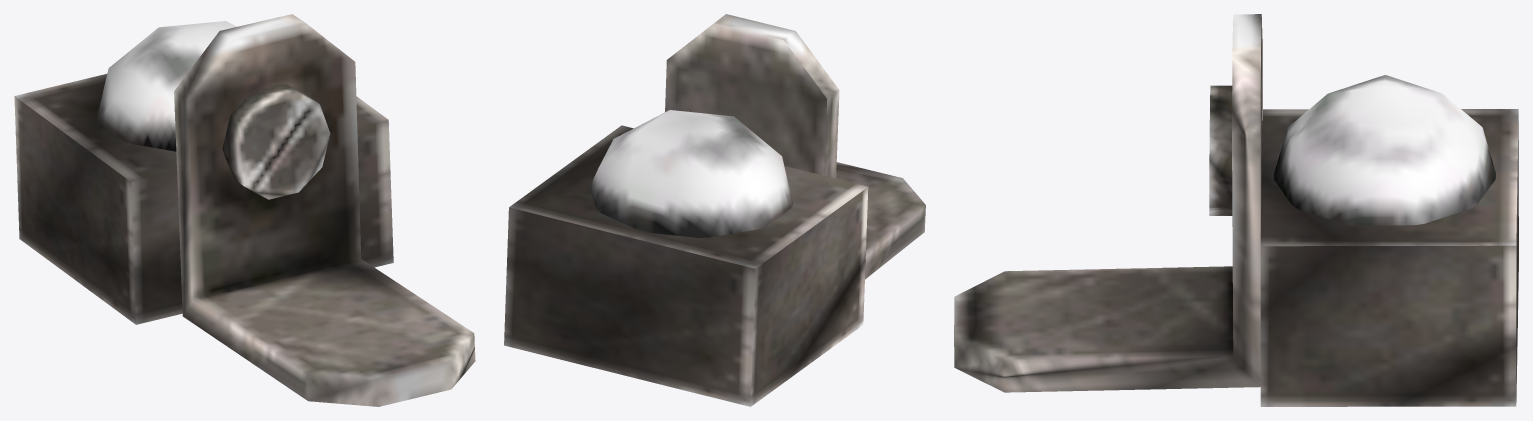
The model's file is Robot01.RightFoot2.fbx.
3 views of the same model, side by side, from view 1: azimuth 30°, elevation 25°; view 2: azimuth 150°, elevation 25°; view 3: azimuth 270°, elevation 25° (orthographic). The views are drawn at different scales.
Parts seen in each view (by area): view 1: Robot01.RightFoot2; view 2: Robot01.RightFoot2; view 3: Robot01.RightFoot2.
Boxes of the visible parts, <box> form: Robot01.RightFoot2: <box>14,14,475,406</box>; Robot01.RightFoot2: <box>504,14,925,406</box>; Robot01.RightFoot2: <box>954,14,1518,406</box>.
Size of the model in its own units: 28.57 by 29.02 by 48.75.
